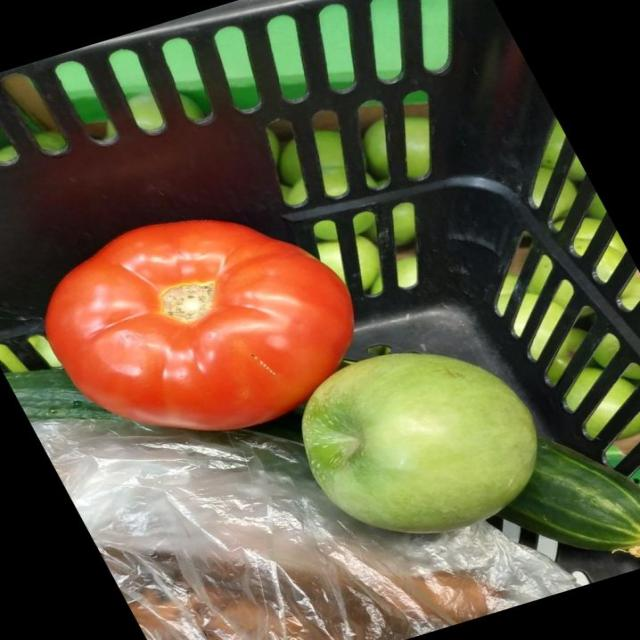Apple: (304, 354, 538, 533)
Cucumber: (494, 439, 640, 551), (3, 368, 114, 419)
Tomatoes: (44, 220, 355, 431)
